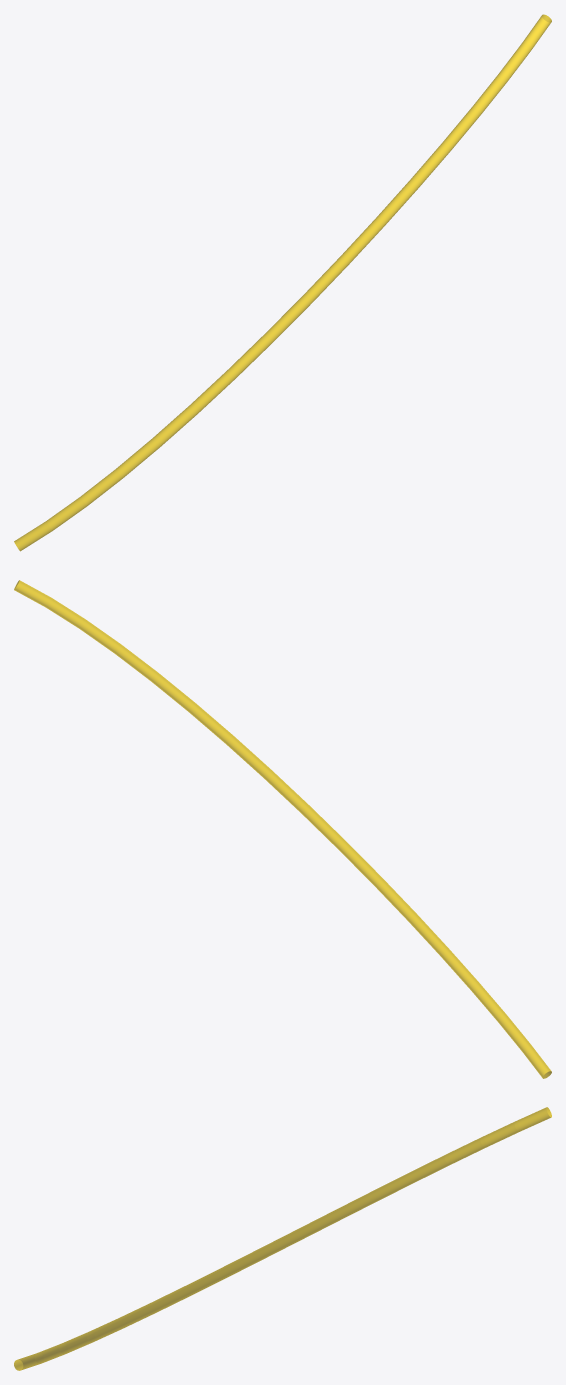
Rendered from Event_419990632_track_2.fbx.
3 renders of one model, top to bottom at view 1: azimuth 30°, elevation 25°; view 2: azimuth 150°, elevation 25°; view 3: azimuth 330°, elevation 25°, orthographic. The views are drawn at different scales.
Visible parts, largest first — view 1: Model; view 2: Model; view 3: Model.
Boxes of the visible parts, <box> form: Model: <box>14,14,551,551</box>; Model: <box>14,580,551,1078</box>; Model: <box>14,1107,551,1370</box>.
Bounding box in the file's own units: 2.12 × 1.47 × 0.2513.
